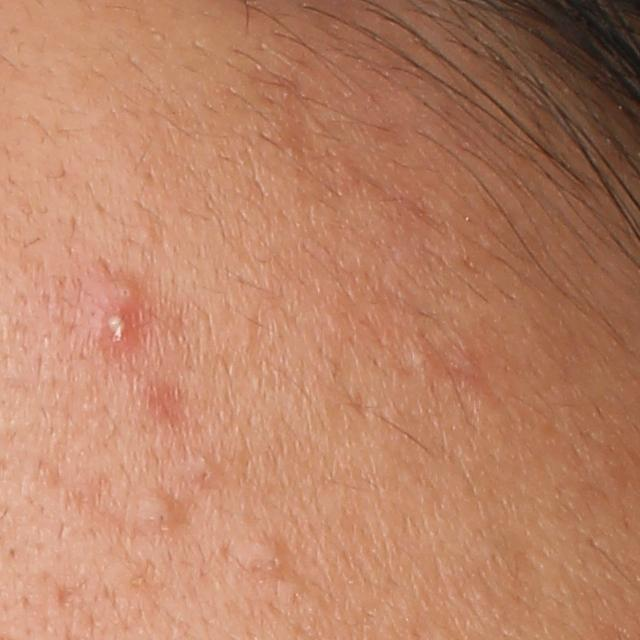comedo: (136, 493, 185, 536), (246, 538, 285, 581), (184, 454, 218, 491)
pustule: (97, 302, 144, 350)
